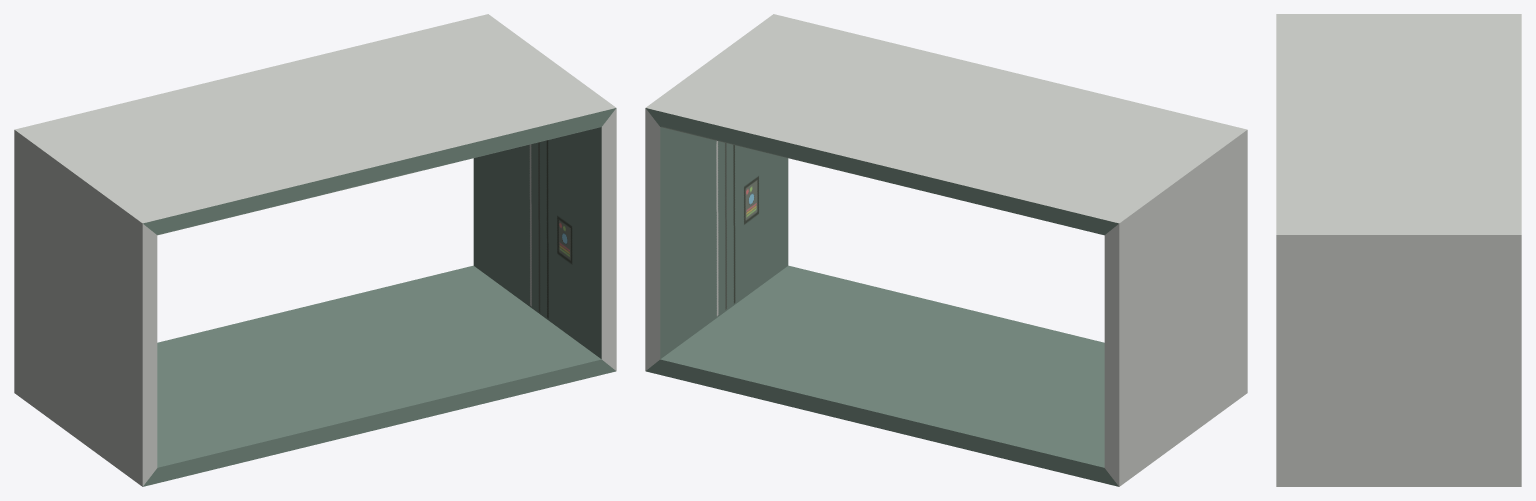
The model's file is controlRoom.gltf.
The picture shows the model from 3 angles, left to right: view 1: azimuth 30°, elevation 25°; view 2: azimuth 150°, elevation 25°; view 3: azimuth 270°, elevation 25°; orthographic projection. The views are drawn at different scales.
Visible parts, largest first — view 1: controlRoom.001; view 2: controlRoom.001; view 3: controlRoom.001.
Boxes of the visible parts, x1=… form: controlRoom.001: x1=14, y1=14, x2=616, y2=486; controlRoom.001: x1=645, y1=14, x2=1247, y2=486; controlRoom.001: x1=1276, y1=14, x2=1521, y2=486.
Bounding box in the file's own units: 12.8 × 6.8 × 6.
Materials: 1 (1 with a texture image).
